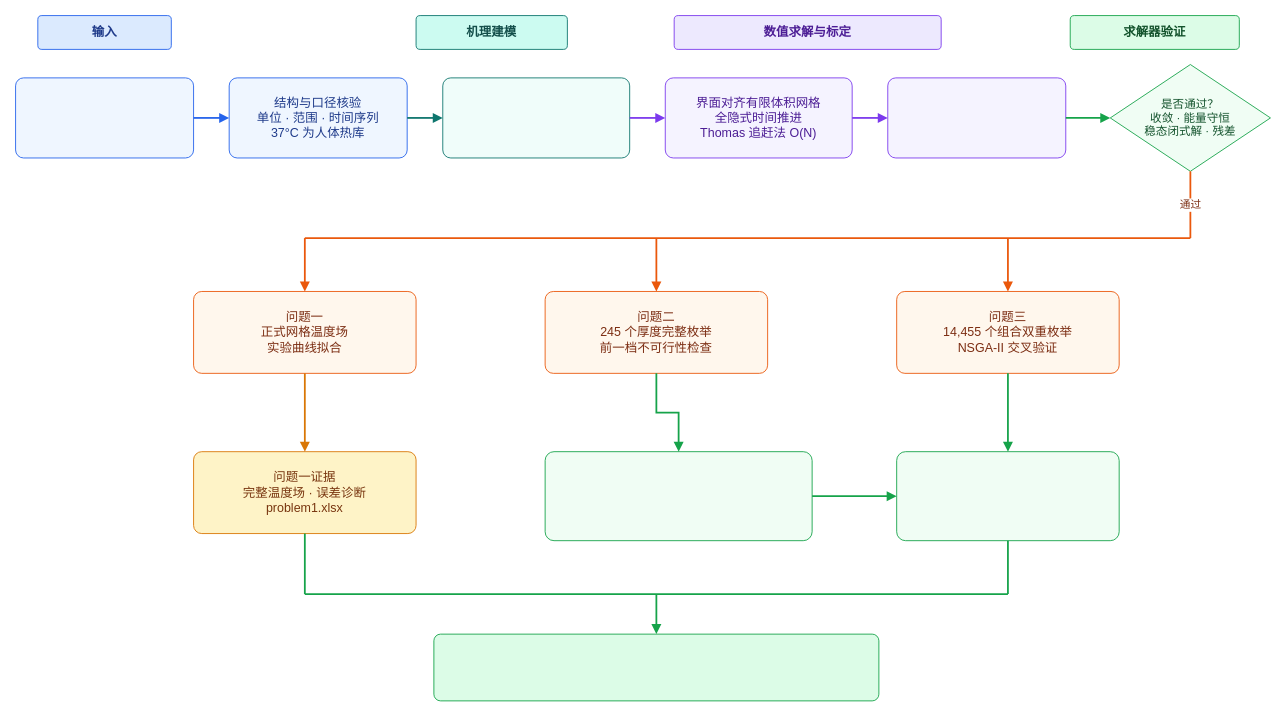
Some shapes in this 1286 by 716 pixel diagram are drawn without their labels. The centre of each missing label's shape, as x and y in pixels:
可复现学习版证据链 代码 + 测试 + 数据图 + 工作簿 + 审计报告: pixel 656 667
名义与稳健设计 换热 · 物性 · 初温 环境 · 制造公差: pixel 1007 496
四层一维非稳态导热 双 Robin 边界 层间温度 / 热流连续: pixel 536 117
设计约束回代与细网格复核 max Tₛ ≤ 47°C duration(Tₛ > 44°C) ≤ 300 s: pixel 678 496
问题一参数标定 多起点最小二乘 估计 hₒ、h b: pixel 976 117
题面与附件 材料参数 + 实验曲线: pixel 104 117
